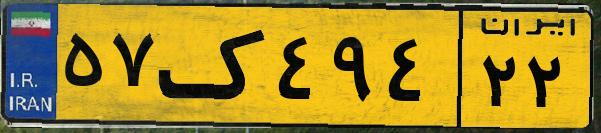2: (475, 38, 525, 113), (525, 38, 570, 115)
4: (270, 28, 330, 110), (385, 28, 445, 110)
5: (57, 26, 110, 100)
7: (110, 28, 158, 98)
9: (330, 28, 385, 110)
ک: (158, 12, 270, 120)
